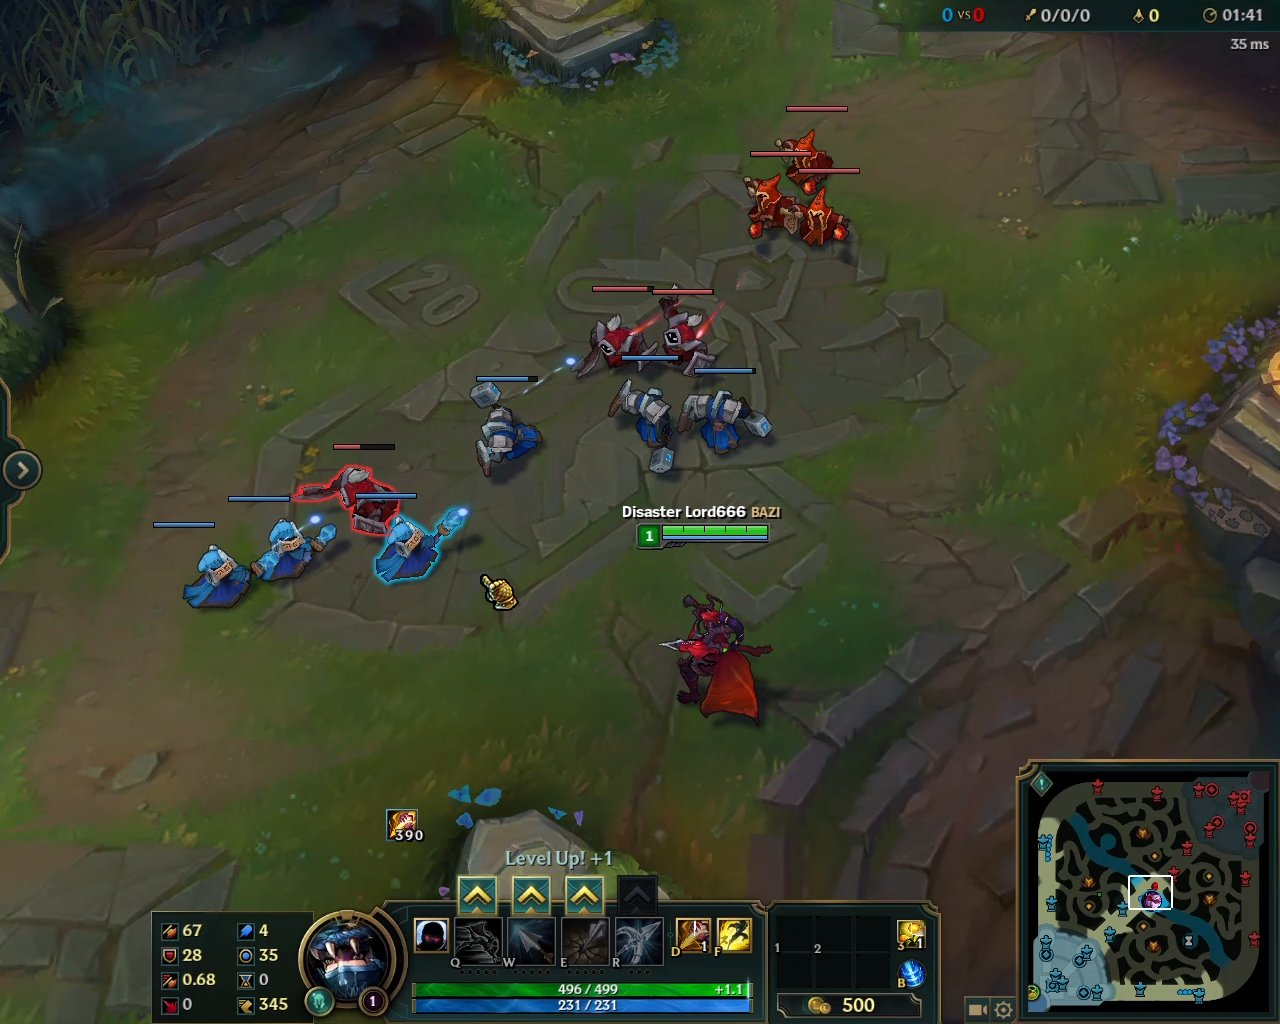EnemyMinion: (292, 440, 403, 536), (565, 284, 656, 383), (734, 149, 810, 246), (775, 106, 850, 200), (781, 167, 862, 249), (651, 284, 719, 378)
Vayne: (648, 587, 778, 736)
